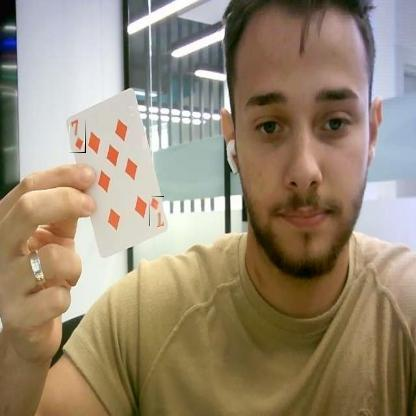7D: (69, 119, 86, 154), (149, 196, 164, 226)
